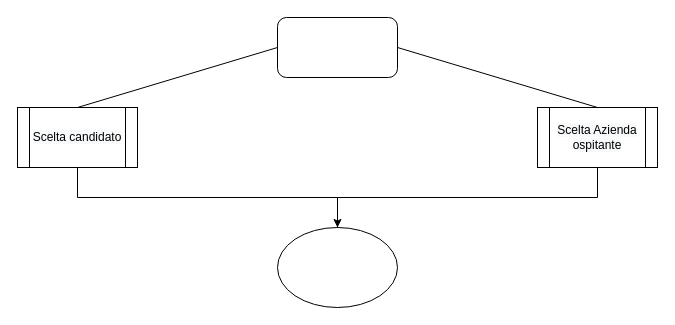
This 675x325 diagram has some shape labels left out. The centre of each missing label's shape, as x and y in pixels:
Abbinamento tirocinante/azienda: the point at 337,267
Tirocinio: the point at 337,47
